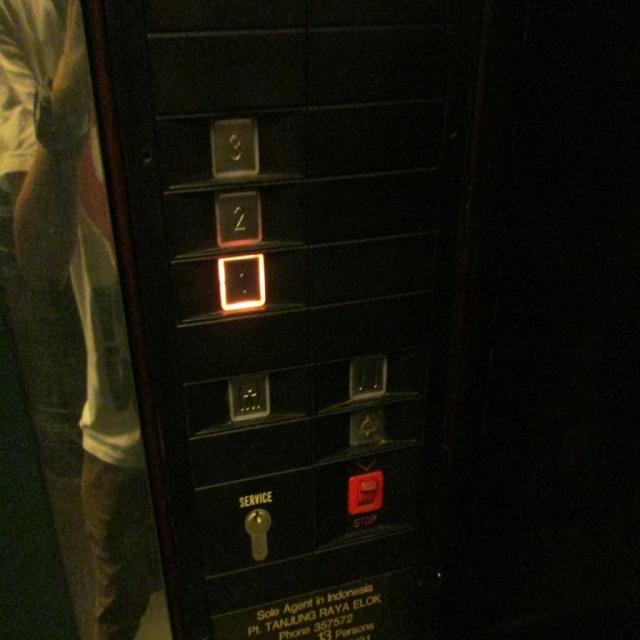1: (216, 252, 265, 314)
2: (212, 190, 262, 247)
3: (208, 116, 261, 179)
alarm: (350, 408, 382, 448)
close: (348, 352, 386, 402)
keyhole: (238, 488, 274, 562)
open: (228, 370, 270, 421)
switch: (347, 471, 382, 517)
